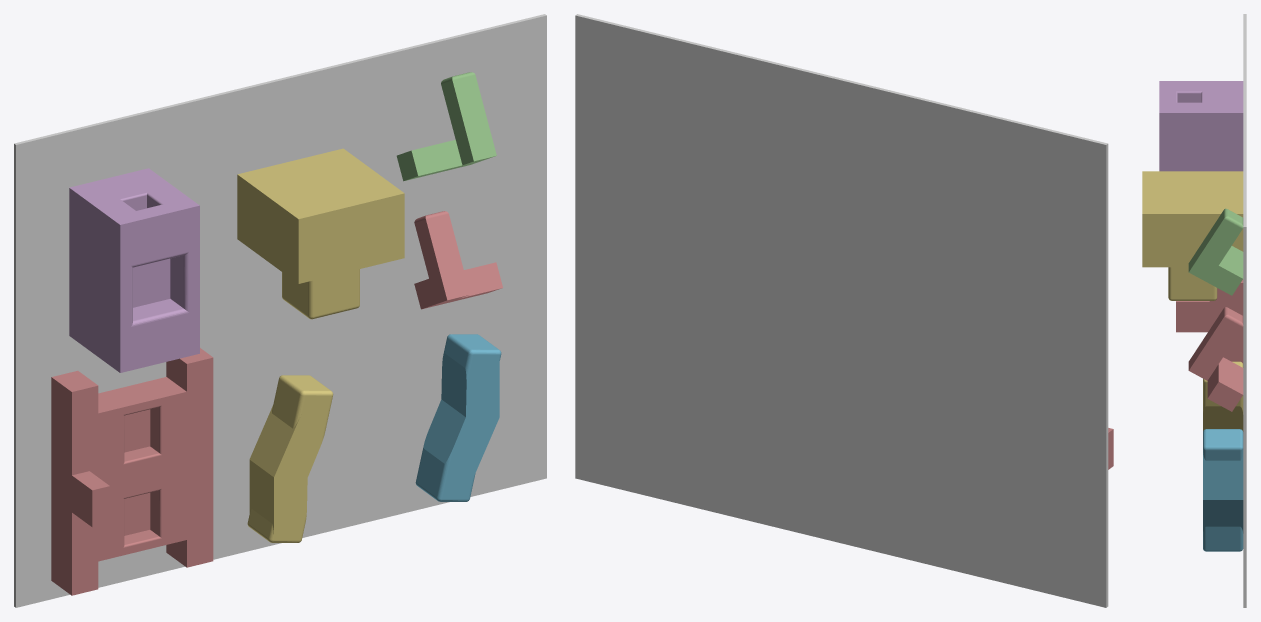
Rendered from pickup_layout.glb.
3 renders of one model, left to right at view 1: azimuth 30°, elevation 25°; view 2: azimuth 150°, elevation 25°; view 3: azimuth 270°, elevation 25°, orthographic. The views are drawn at different scales.
Parts seen in each view (by area): view 1: world, 0.obj, 3.obj, 6.obj, 1.obj, 2.obj, 4.obj, 5.obj; view 2: world; view 3: 6.obj, 3.obj, 2.obj, 5.obj, 4.obj, world, 0.obj, 1.obj.
Boxes of the visible parts, x1=… form: world: x1=14, y1=14, x2=546, y2=607; 0.obj: x1=51, y1=348, x2=213, y2=595; 3.obj: x1=69, y1=168, x2=199, y2=372; 6.obj: x1=237, y1=148, x2=404, y2=319; 1.obj: x1=247, y1=375, x2=333, y2=542; 2.obj: x1=415, y1=334, x2=501, y2=501; 4.obj: x1=396, y1=72, x2=496, y2=181; 5.obj: x1=414, y1=211, x2=502, y2=309; world: x1=575, y1=14, x2=1108, y2=607; 6.obj: x1=1142, y1=171, x2=1243, y2=300; 3.obj: x1=1159, y1=81, x2=1243, y2=171; 2.obj: x1=1203, y1=429, x2=1243, y2=551; 5.obj: x1=1188, y1=307, x2=1243, y2=411; 4.obj: x1=1188, y1=208, x2=1243, y2=295; world: x1=1243, y1=14, x2=1246, y2=607; 0.obj: x1=1176, y1=279, x2=1243, y2=363; 1.obj: x1=1203, y1=361, x2=1243, y2=431.
Bounding box in the file's own units: 30 × 25 × 6.2.
